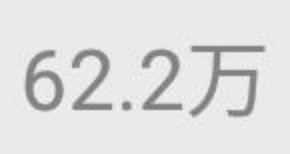TextView: (1, 1, 289, 153)
